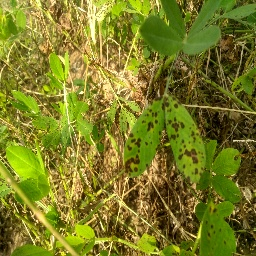GroundNut_Leaf: (163, 98, 207, 183), (125, 99, 163, 179), (196, 203, 235, 256), (6, 147, 47, 193), (142, 17, 183, 55), (185, 25, 220, 58), (211, 148, 241, 175), (210, 177, 242, 202), (66, 226, 92, 254), (9, 90, 37, 113), (48, 54, 70, 82), (194, 1, 219, 25), (223, 2, 256, 20), (14, 244, 57, 256), (77, 113, 92, 142), (244, 74, 256, 93), (15, 9, 25, 31)
